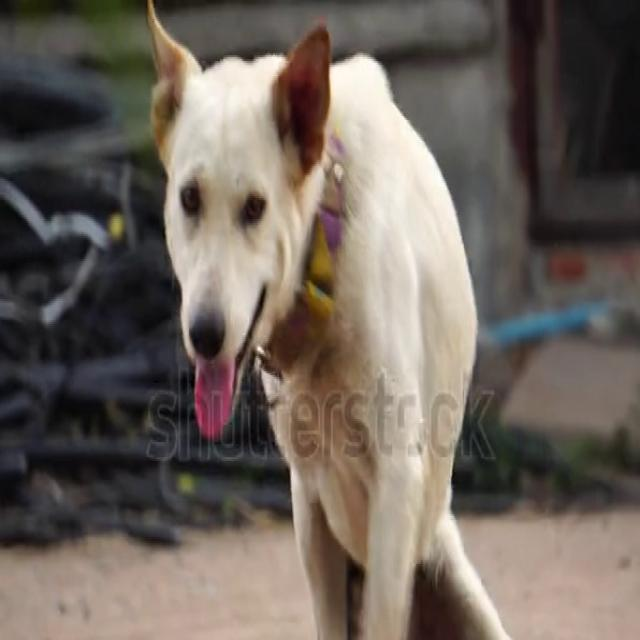injured-animals: (139, 0, 553, 638)
